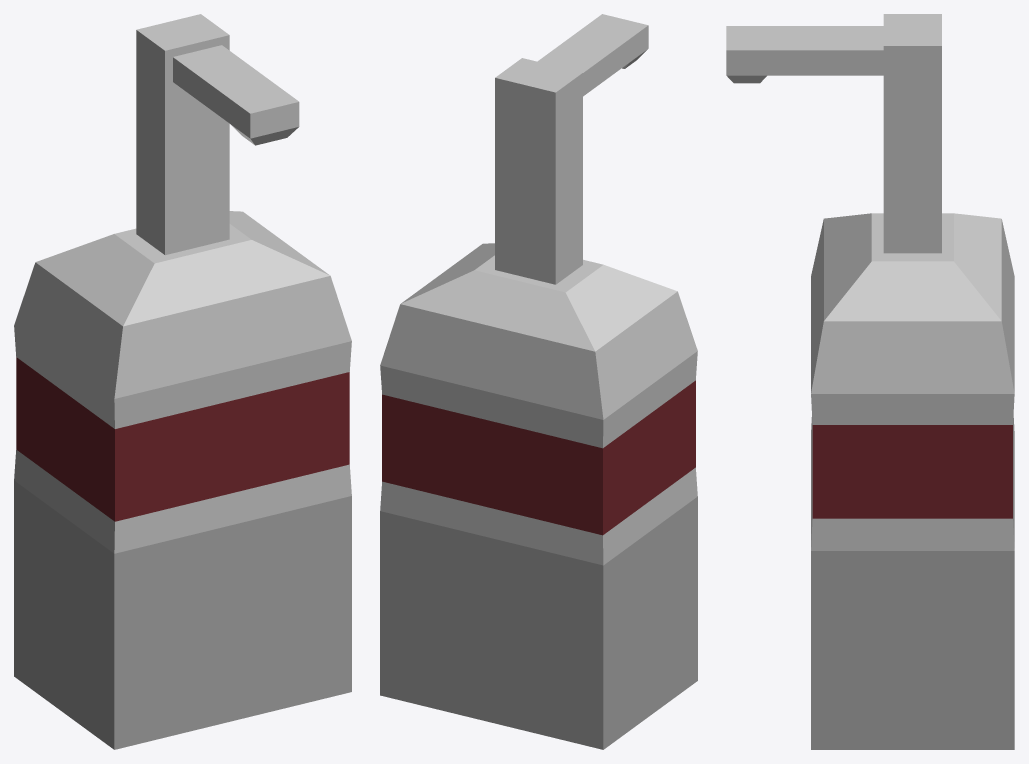
The model's file is HandSanitizer.fbx.
3 views of the same model, side by side, from view 1: azimuth 30°, elevation 25°; view 2: azimuth 150°, elevation 25°; view 3: azimuth 270°, elevation 25° (orthographic). The views are drawn at different scales.
Parts seen in each view (by area): view 1: HandSanitizer; view 2: HandSanitizer; view 3: HandSanitizer.
Part boxes in pixels (<box>): HandSanitizer: <box>14,14,351,749</box>; HandSanitizer: <box>380,14,697,749</box>; HandSanitizer: <box>726,14,1014,749</box>.
Bounding box in the file's own units: 4.65 × 12.19 × 4.82.
